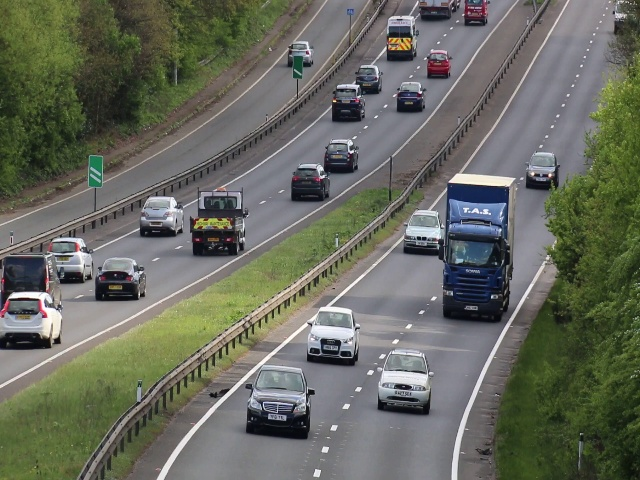car: (444, 229, 505, 324), (245, 365, 310, 438), (377, 348, 432, 417), (190, 187, 245, 254), (1, 292, 61, 350), (1, 255, 59, 314), (307, 305, 359, 365), (91, 257, 149, 299), (47, 238, 92, 282), (139, 196, 185, 233), (405, 208, 441, 254), (386, 14, 418, 62), (293, 164, 330, 201), (330, 83, 366, 121), (524, 152, 558, 188), (323, 140, 360, 171), (396, 79, 426, 112), (356, 64, 383, 93), (288, 39, 314, 66), (464, 1, 488, 27), (427, 51, 450, 76)
